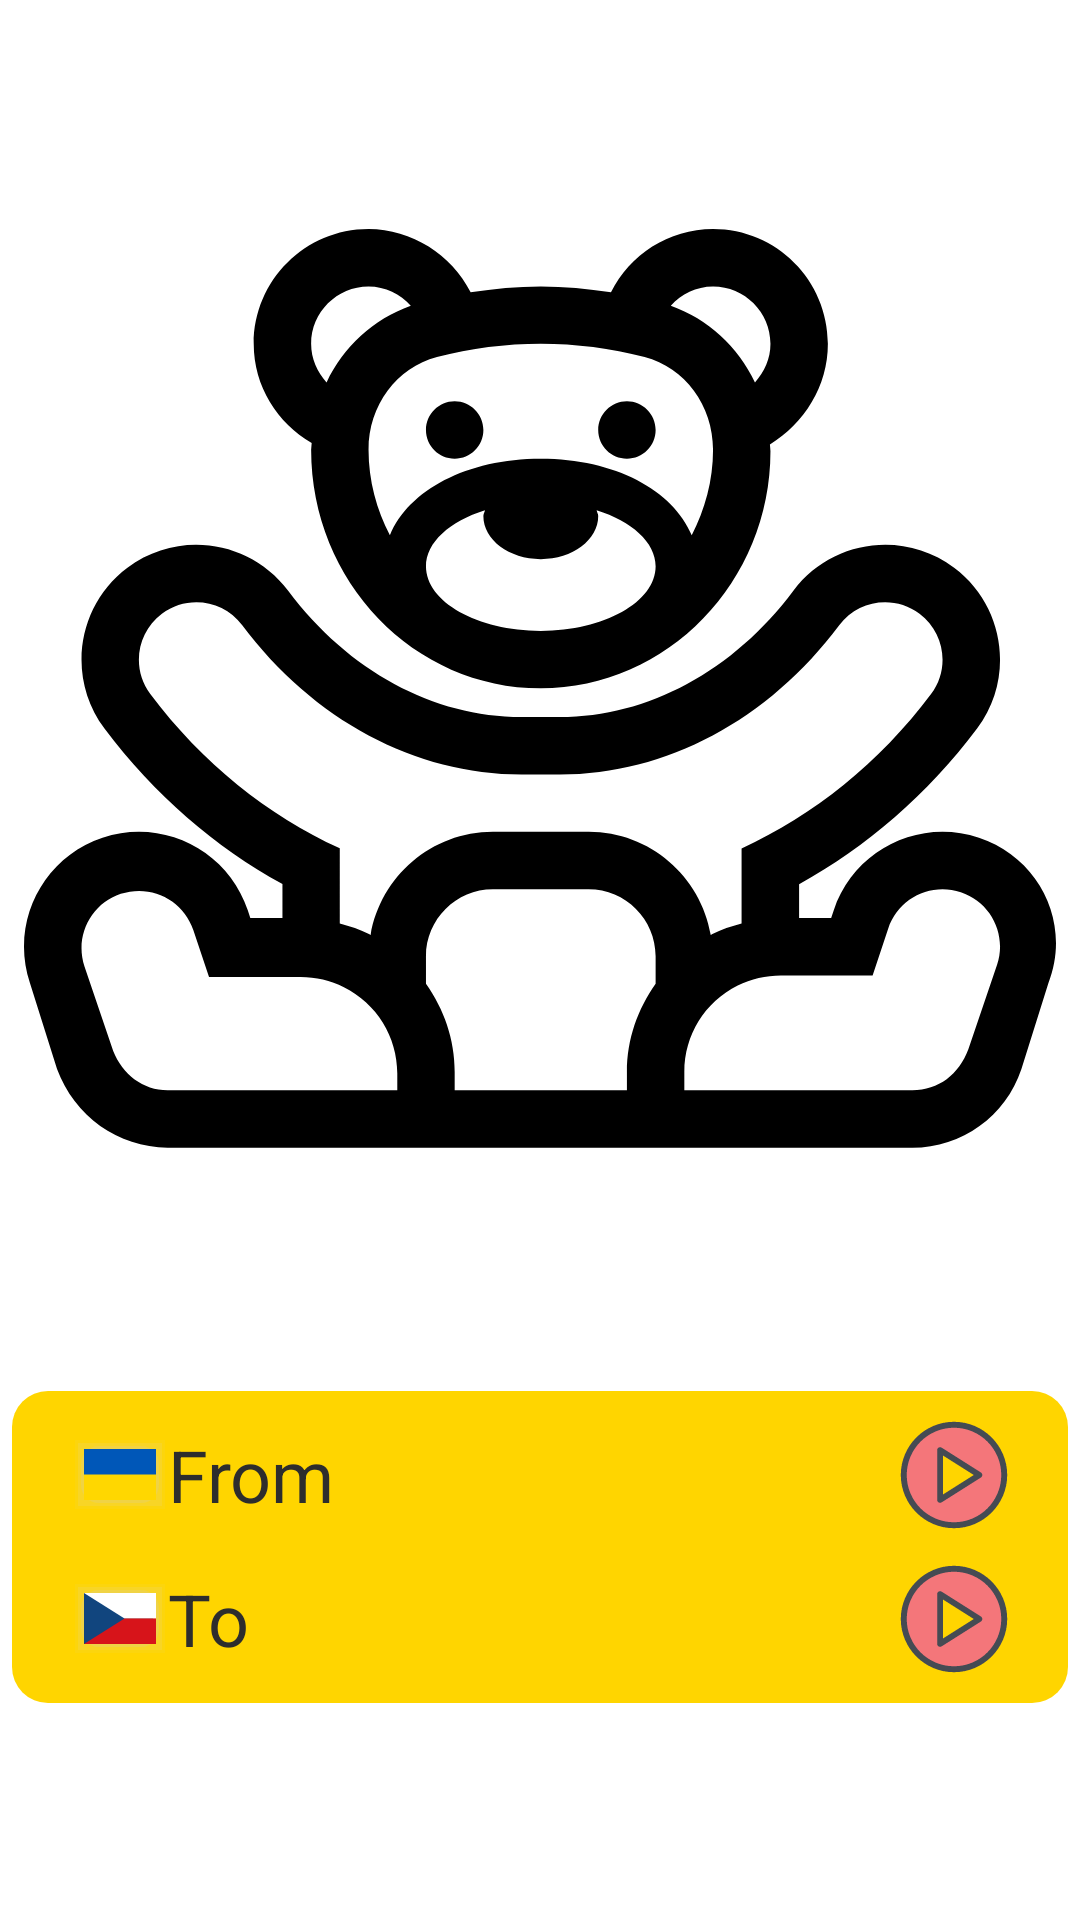

Locate icon controls on the screen. Image size 1080*1920, boxes as [left=x1, top=y1, right=x2, bottom=y2].
country flag: [left=78, top=1443, right=162, bottom=1506]
play transcription: [left=900, top=1421, right=1008, bottom=1529], [left=900, top=1565, right=1008, bottom=1673]
